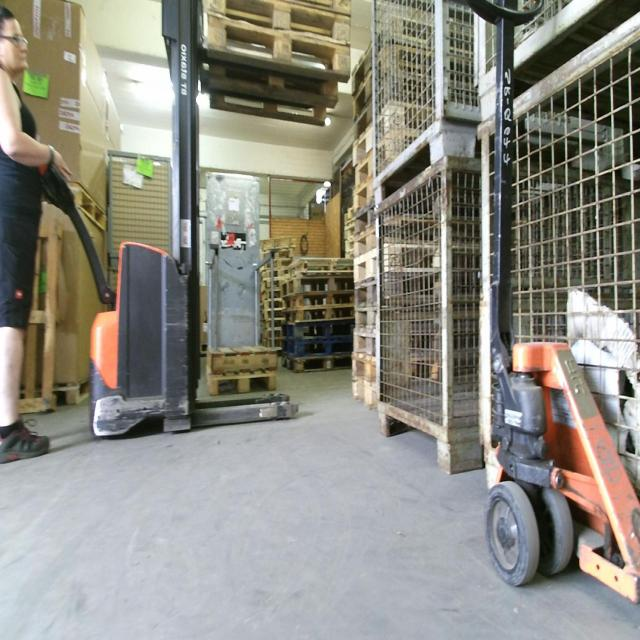pallet: (15, 197, 66, 426), (205, 20, 350, 79), (207, 2, 351, 36), (31, 173, 110, 233), (12, 366, 100, 411), (204, 365, 278, 396), (284, 273, 354, 297), (280, 355, 354, 373), (281, 321, 354, 339), (283, 292, 356, 310), (283, 305, 356, 322), (281, 339, 354, 355), (352, 46, 371, 98), (283, 260, 354, 273), (352, 374, 376, 410), (352, 250, 376, 285), (353, 129, 371, 170), (354, 280, 378, 310), (352, 353, 376, 382), (352, 101, 371, 136), (353, 226, 375, 256), (353, 204, 375, 233), (354, 329, 376, 356), (353, 179, 370, 209), (354, 310, 378, 328), (258, 239, 296, 249), (261, 309, 284, 321), (263, 269, 284, 281), (261, 279, 282, 289), (263, 300, 281, 310), (261, 329, 283, 337), (263, 290, 282, 299), (263, 259, 282, 268), (263, 320, 282, 328), (264, 339, 282, 346)
pallet_truck: (24, 2, 303, 439), (446, 0, 639, 616)
stillage: (471, 4, 639, 512), (374, 148, 632, 471), (368, 0, 478, 206), (469, 0, 638, 128), (107, 147, 176, 267), (108, 261, 118, 311)
